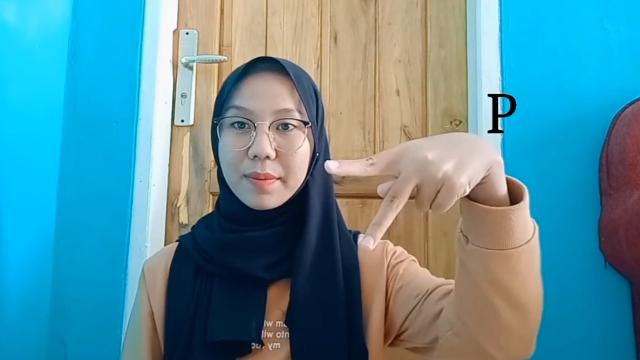P: (320, 133, 502, 253)
